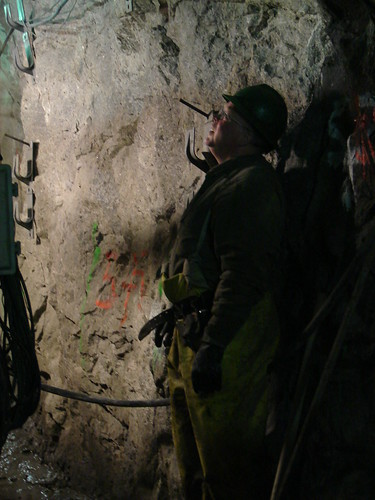person hardhat: (143, 77, 285, 497)
